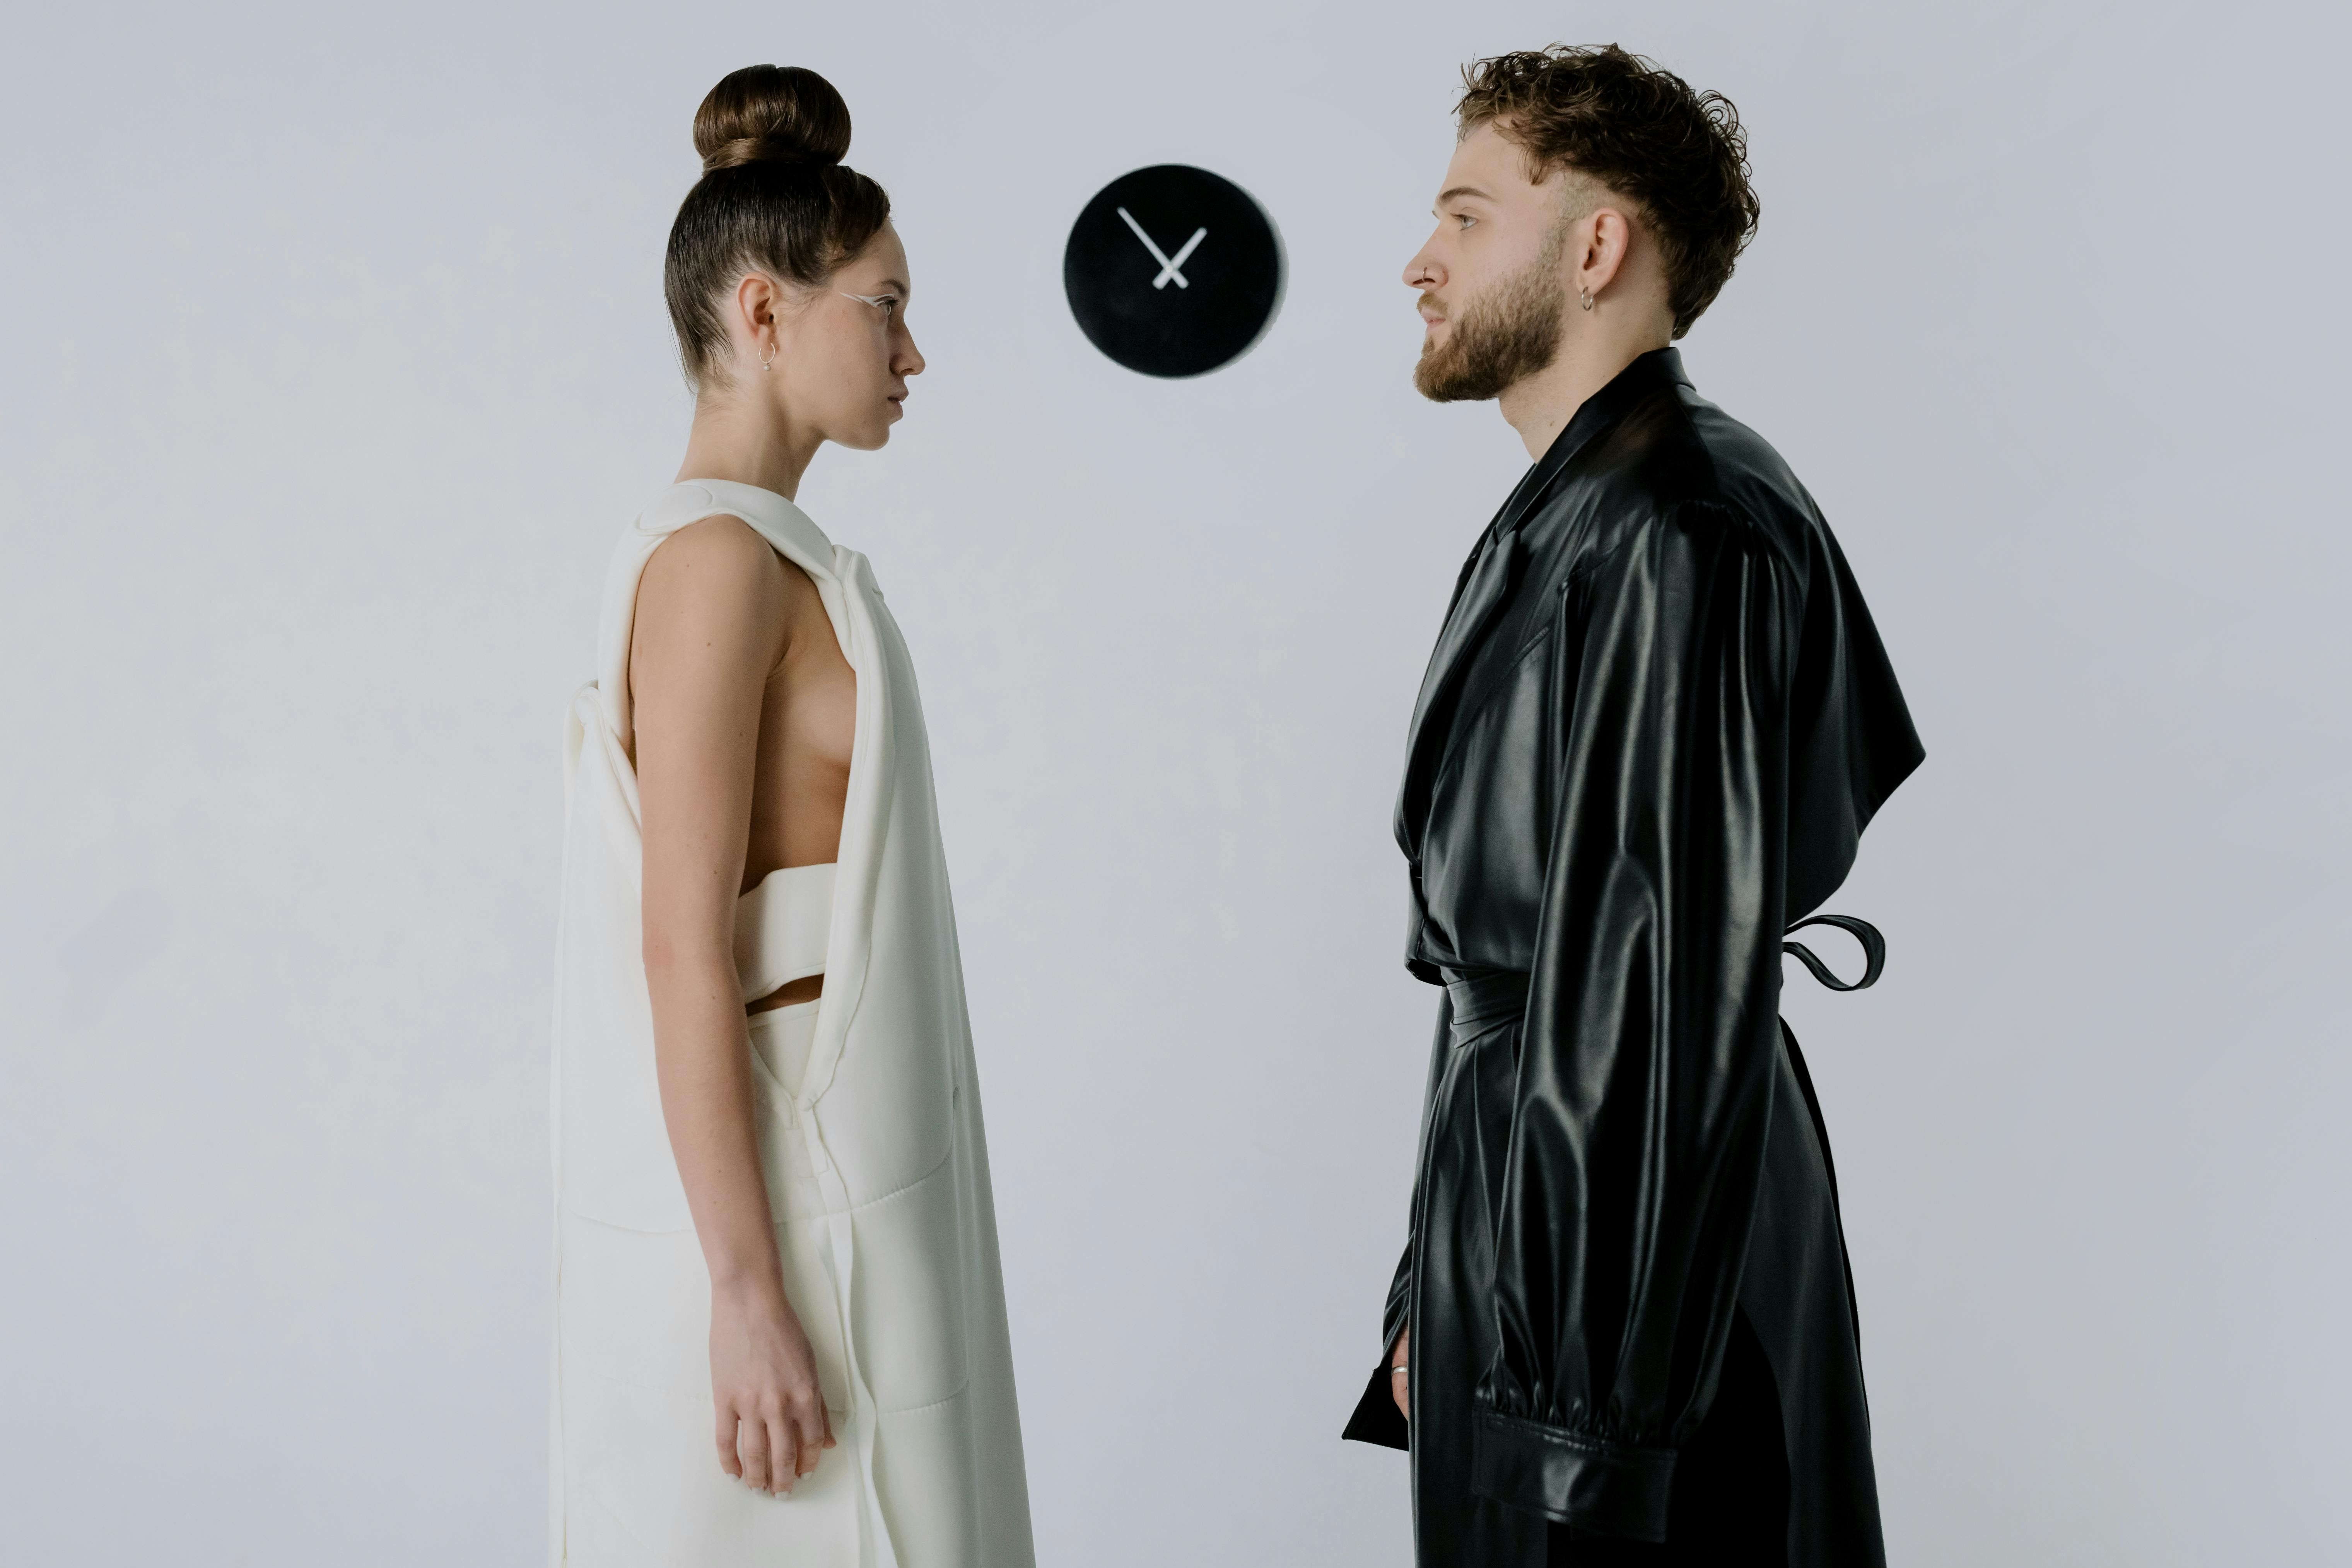clock: (1004, 114, 1309, 390)
